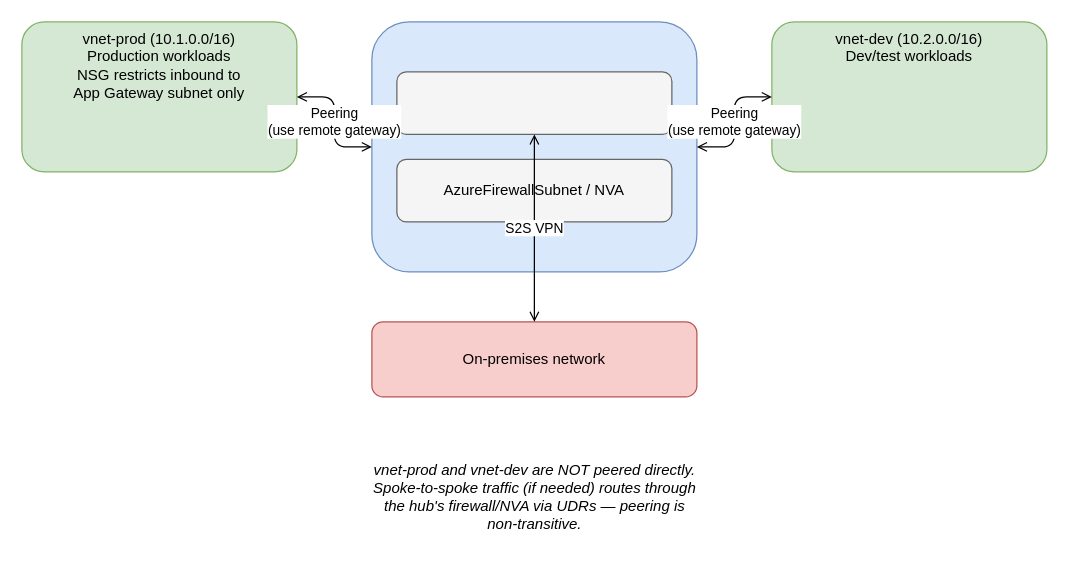
Image size: 1069x569. Some labels were removed from this diagram. Each missing label, with the box of its shape:
GatewaySubnet (VPN Gateway): (396, 71, 672, 134)
vnet-hub (10.0.0.0/16): (371, 21, 697, 272)
